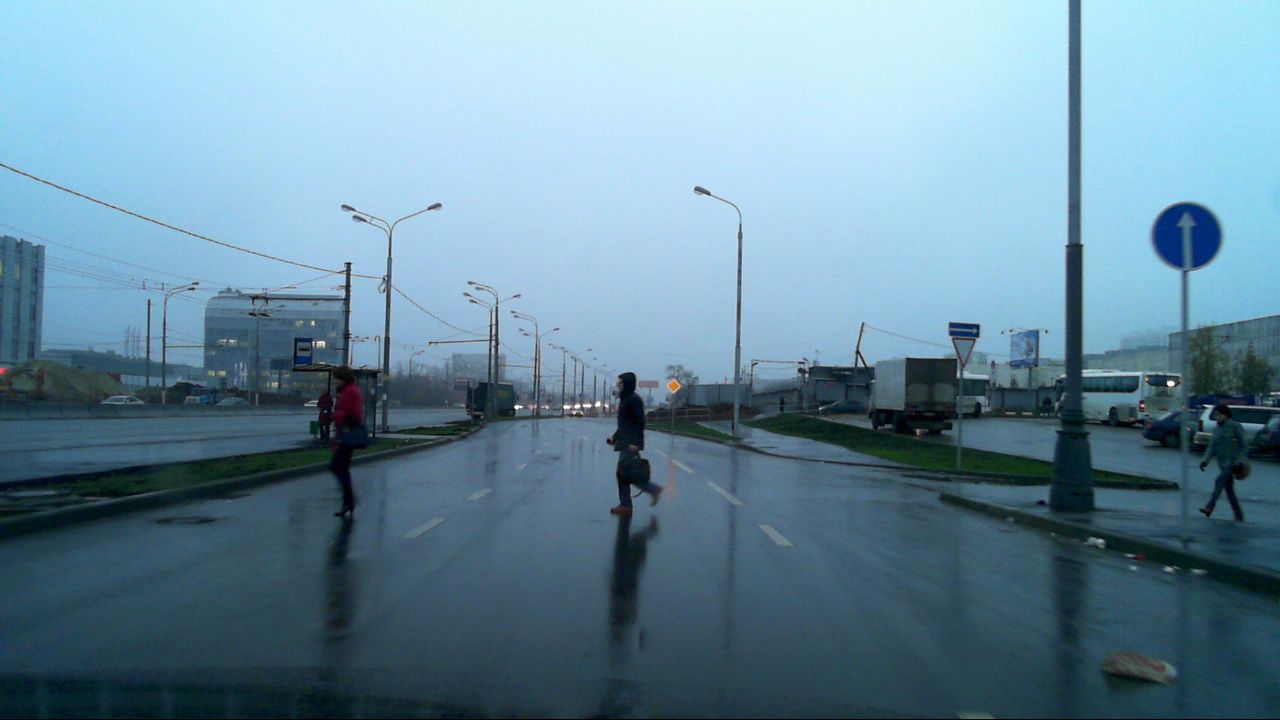One-Way Traffic: (948, 323, 980, 337)
